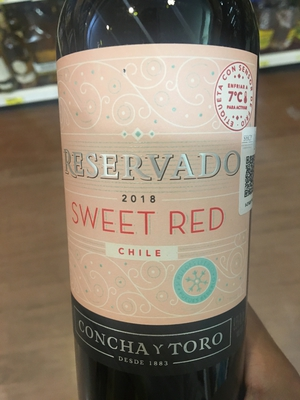reservado sweet red: (49, 9, 262, 400)
